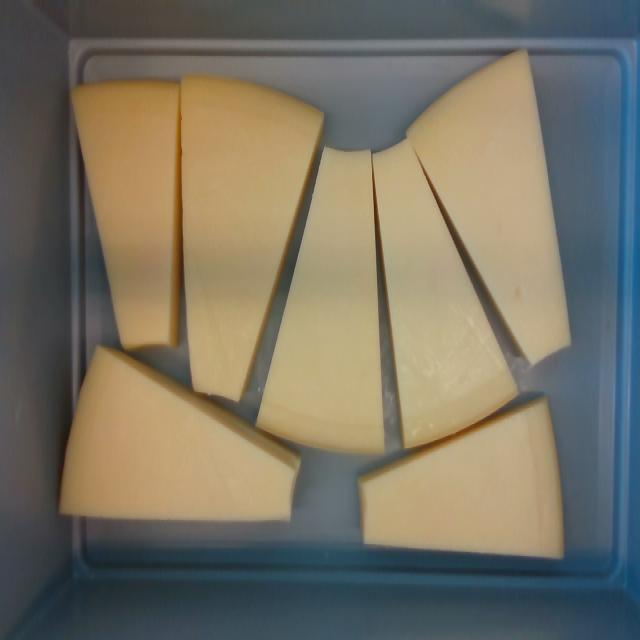cheese: (407, 48, 572, 364), (180, 76, 324, 402), (375, 145, 516, 444), (61, 348, 296, 524), (257, 148, 382, 451), (362, 400, 563, 556), (74, 83, 175, 348)
